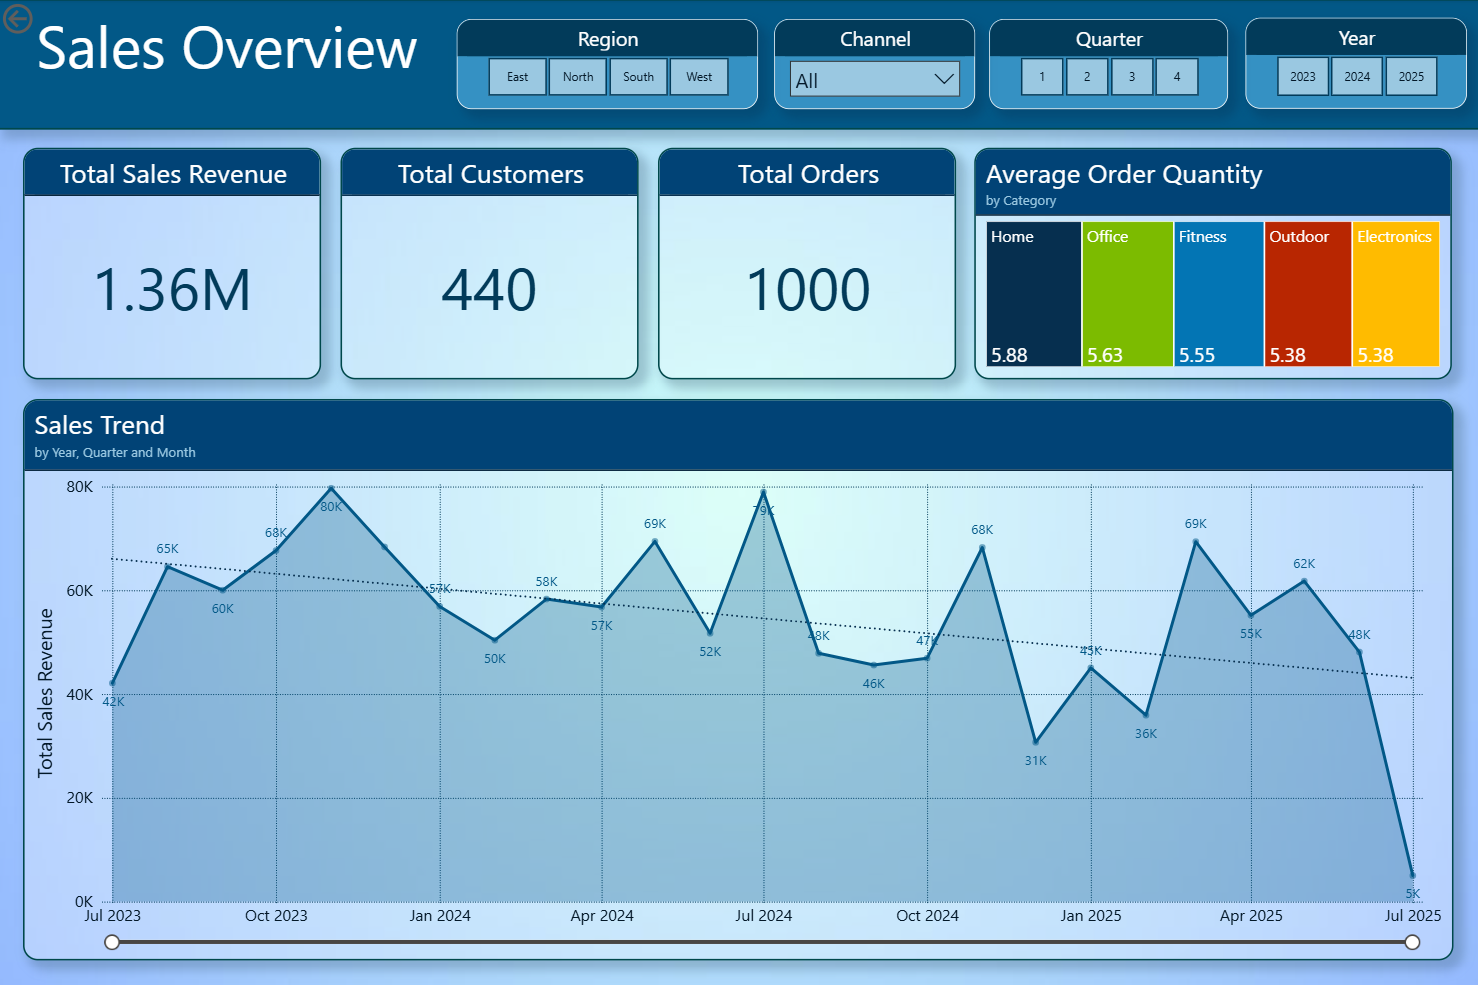

The dashboard page shown, as its layout file describes it:
{"tool":"powerbi","page":{"name":"Sales Overview","canvas":[1500,1000],"ordinal":0},"visuals":[{"type":"treemap","title":"Average Order Quantity","fields":{"Group":["Products.Category"],"Values":["Sales&Customers.AverageOrderQuantity"]},"box":[988.2,150.8,483.3,234.2],"z":0},{"type":"card","title":"Total Customers","fields":{"Values":["Sales.TotalCustomers"]},"box":[346.2,150.9,301.7,234.3],"z":0,"group":"g1"},{"type":"lineChart","title":"Sales Trend","fields":{"Y":["Sales&Customers.TotalSalesAmount"],"Category":["Sales.SaleDate.Variation.Date Hierarchy.Year","Sales.SaleDate.Variation.Date Hierarchy.Quarter","Sales.SaleDate.Variation.Date Hierarchy.Month"]},"box":[24.9,404.2,1447,568.3],"z":1000},{"type":"textbox","title":"Sales Overview","box":[0,0,1499.7,131.8],"z":2000},{"type":"card","title":"Total Sales Revenue","fields":{"Values":["Sales&Customers.TotalSalesAmount"]},"box":[24.9,150.9,301.7,234.3],"z":2000,"group":"g1"},{"type":"group","id":"g1","title":"Group 1","box":[24.9,150.9,944.6,234.3],"z":3000},{"type":"card","title":"Total Orders","fields":{"Values":["Sales&Customers.Total Orders"]},"box":[667.7,150.9,301.8,234.3],"z":3000,"group":"g1"},{"type":"slicer","title":"Year","fields":{"Values":["Sales.SaleYear"]},"box":[1262.5,19,224.1,92.3],"z":4000},{"type":"slicer","title":"Quarter","fields":{"Values":["Sales.SaleQuarter"]},"box":[1003.2,20.5,241.7,90.8],"z":5000},{"type":"slicer","title":"Channel","fields":{"Values":["Sales.SalesChannel"]},"box":[785,20.5,203.6,90.8],"z":6000},{"type":"actionButton","box":[0,0,100,40],"z":7000},{"type":"slicer","title":"Region","fields":{"Values":["Customers.Region"]},"box":[464.3,20.5,304.6,90.8],"z":8000}]}

Visuals, with their boxes in screenshot pixels (x1, y1, x2, y2), scaled from the page's 1500x1000 canvas onto the 1478x985 screenshot:
"Average Order Quantity" treemap: l=974, t=149, r=1450, b=379
"Total Customers" card: l=341, t=149, r=638, b=379
"Sales Trend" lineChart: l=25, t=398, r=1450, b=958
"Sales Overview" textbox: l=0, t=0, r=1477, b=130
"Total Sales Revenue" card: l=25, t=149, r=322, b=379
"Group 1" group: l=25, t=149, r=955, b=379
"Total Orders" card: l=658, t=149, r=955, b=379
"Year" slicer: l=1244, t=19, r=1465, b=110
"Quarter" slicer: l=988, t=20, r=1227, b=110
"Channel" slicer: l=773, t=20, r=974, b=110
actionButton: l=0, t=0, r=99, b=39
"Region" slicer: l=457, t=20, r=758, b=110
